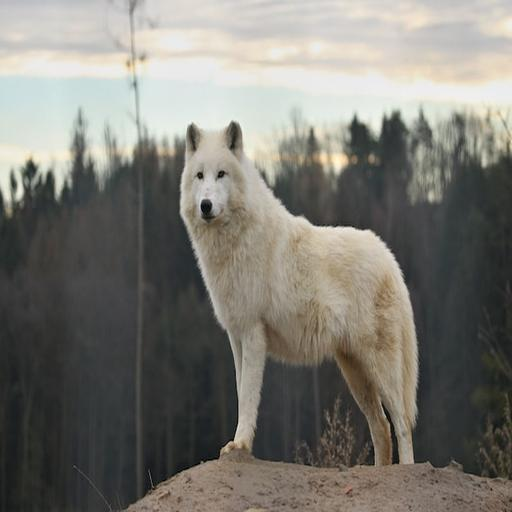Wolf: (180, 122, 423, 465)
